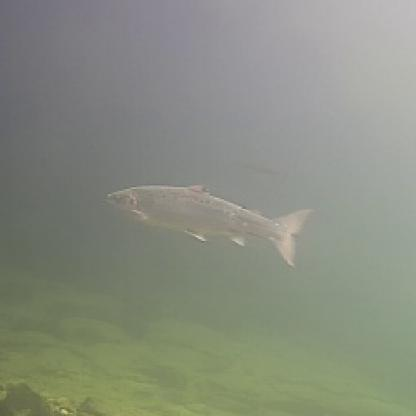salmon: (102, 177, 314, 267)
